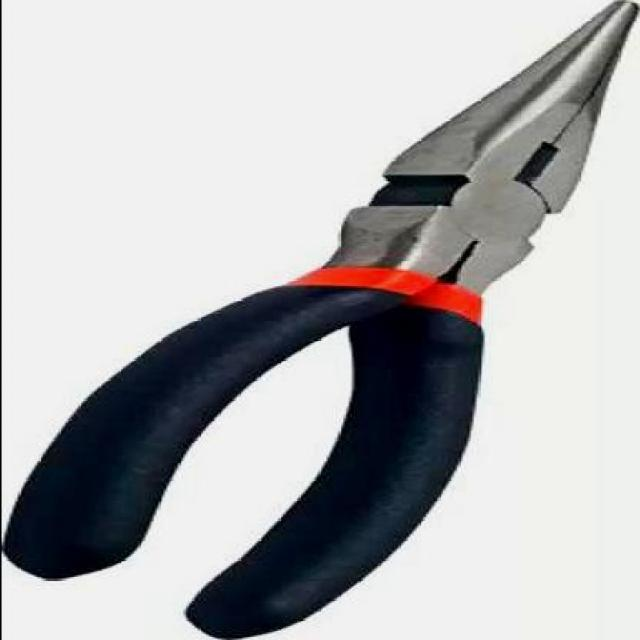pliers: (6, 1, 639, 637)
